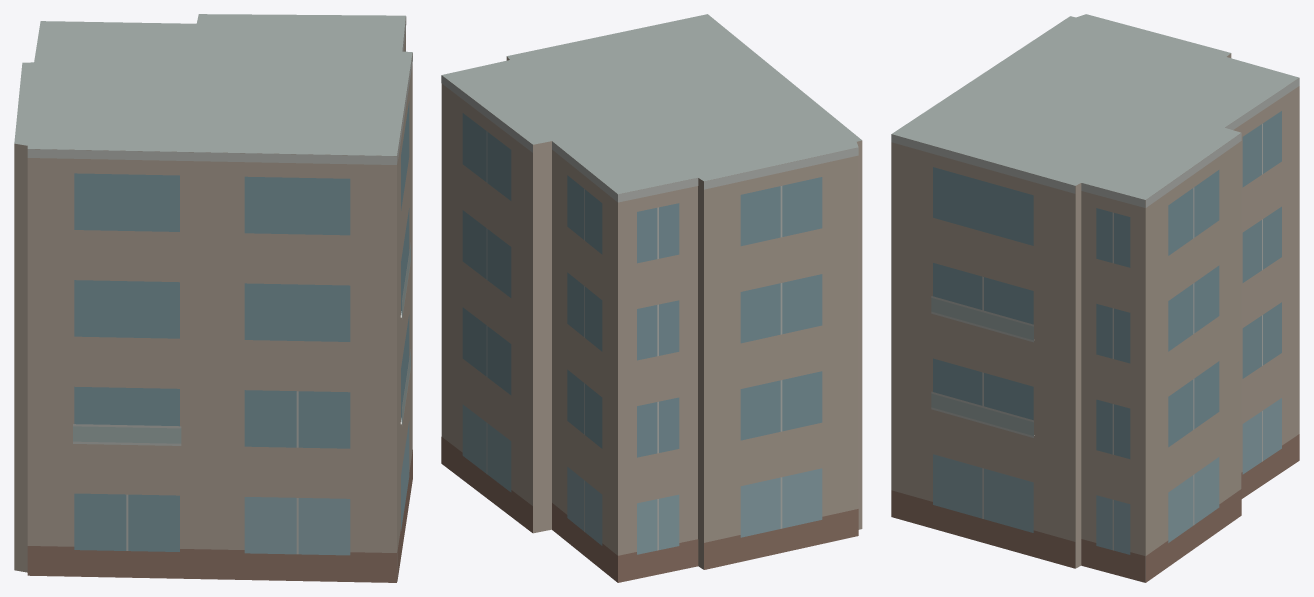
File: survey-upis-32524900.glb
3 renders of one model, left to right at view 1: azimuth 30°, elevation 25°; view 2: azimuth 150°, elevation 25°; view 3: azimuth 270°, elevation 25°, orthographic. The views are drawn at different scales.
Visible parts, largest first — view 1: survey-upis-32524900.tmp; view 2: survey-upis-32524900.tmp; view 3: survey-upis-32524900.tmp.
Boxes of the visible parts, x1,y1,x2,y2 form: survey-upis-32524900.tmp: [14, 14, 412, 582]; survey-upis-32524900.tmp: [441, 14, 862, 582]; survey-upis-32524900.tmp: [891, 14, 1299, 582].
Size of the model in its own units: 11.99 by 11.5 by 11.12.
